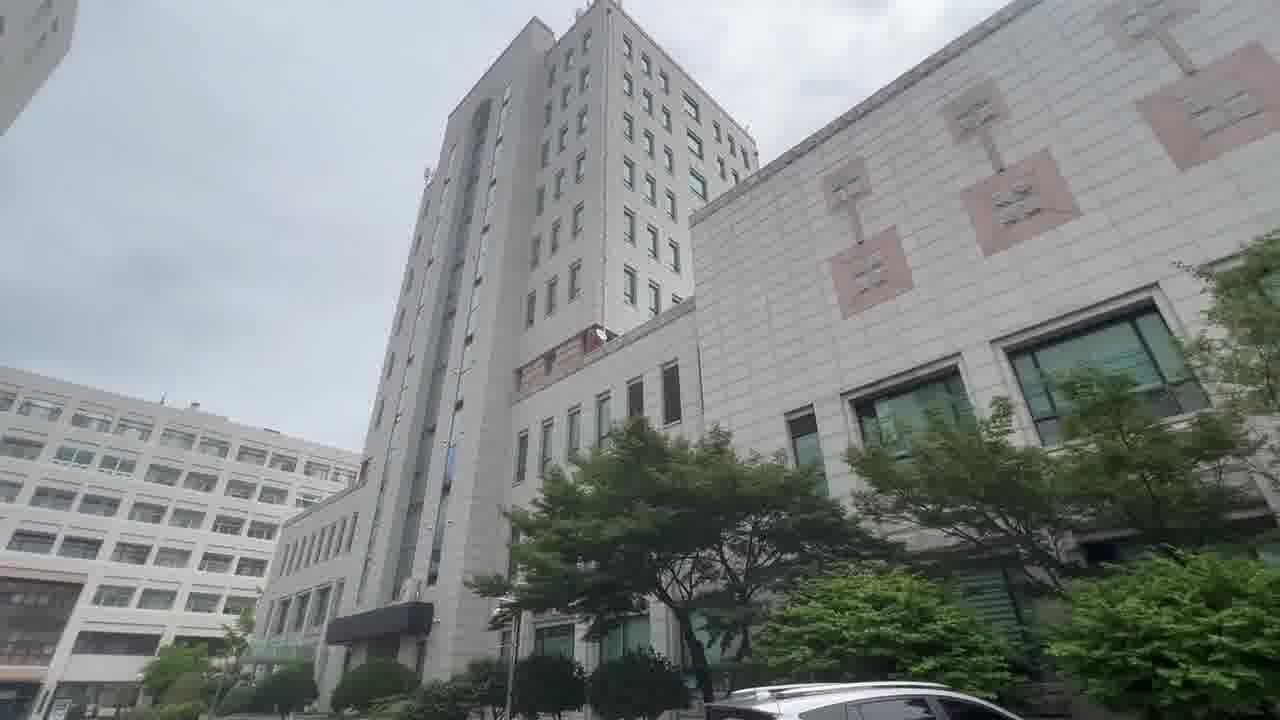building: (397, 11, 1128, 403)
